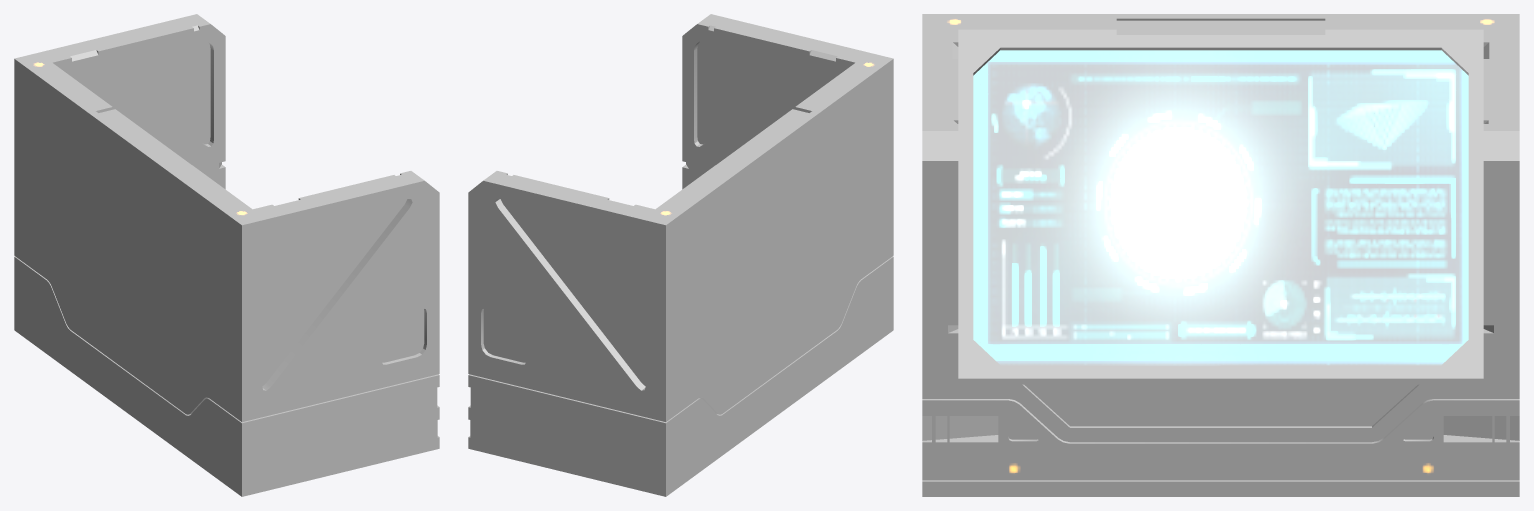
Rendered from SM_Scifipc2.fbx.
3 renders of one model, left to right at view 1: azimuth 30°, elevation 25°; view 2: azimuth 150°, elevation 25°; view 3: azimuth 270°, elevation 25°, orthographic. The views are drawn at different scales.
Visible parts, largest first — view 1: Cube.059; view 2: Cube.059; view 3: Cube.059.
Boxes of the visible parts, x1=… form: Cube.059: x1=14, y1=14, x2=439, y2=496; Cube.059: x1=468, y1=14, x2=893, y2=496; Cube.059: x1=922, y1=14, x2=1519, y2=496.
Bounding box in the file's own units: 153 × 200 × 304.
